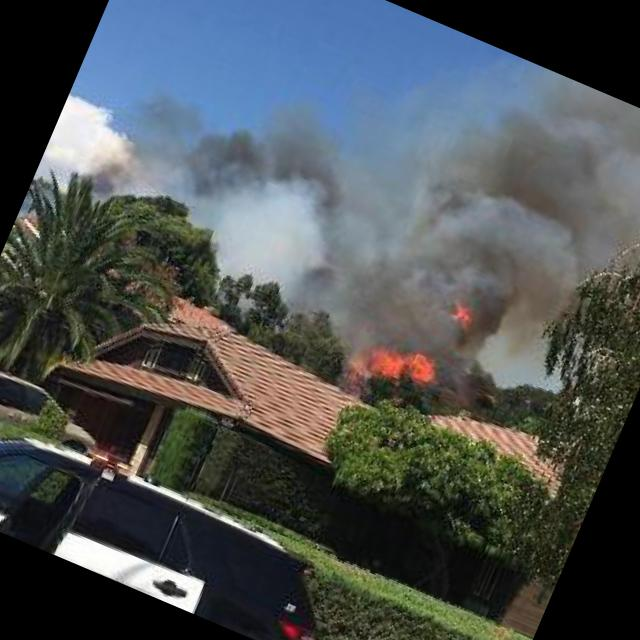fire: (324, 315, 442, 401), (445, 300, 480, 335)
smoke: (80, 7, 400, 304), (356, 27, 640, 357)
